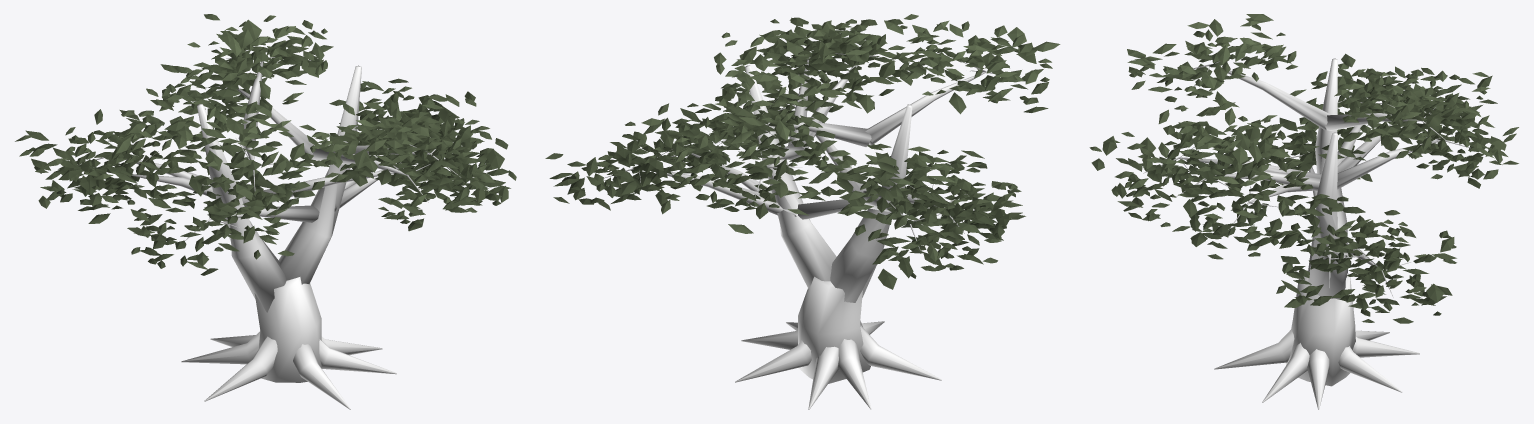
Rendered from forest-tree-broad-v4.glb.
The picture shows the model from 3 angles, left to right: view 1: azimuth 30°, elevation 25°; view 2: azimuth 150°, elevation 25°; view 3: azimuth 270°, elevation 25°; orthographic projection. The views are drawn at different scales.
Parts seen in each view (by area): view 1: Broad low crown, forest-atlas-surface; view 2: Broad low crown, forest-atlas-surface; view 3: Broad low crown, forest-atlas-surface.
Boxes of the visible parts, x1,y1,x2,y2 form: Broad low crown: [15, 14, 516, 275]; forest-atlas-surface: [78, 57, 461, 409]; Broad low crown: [545, 14, 1060, 289]; forest-atlas-surface: [603, 53, 993, 409]; Broad low crown: [1089, 14, 1518, 323]; forest-atlas-surface: [1143, 58, 1470, 409].
Size of the model in its own units: 8.77 by 6.06 by 7.8.
